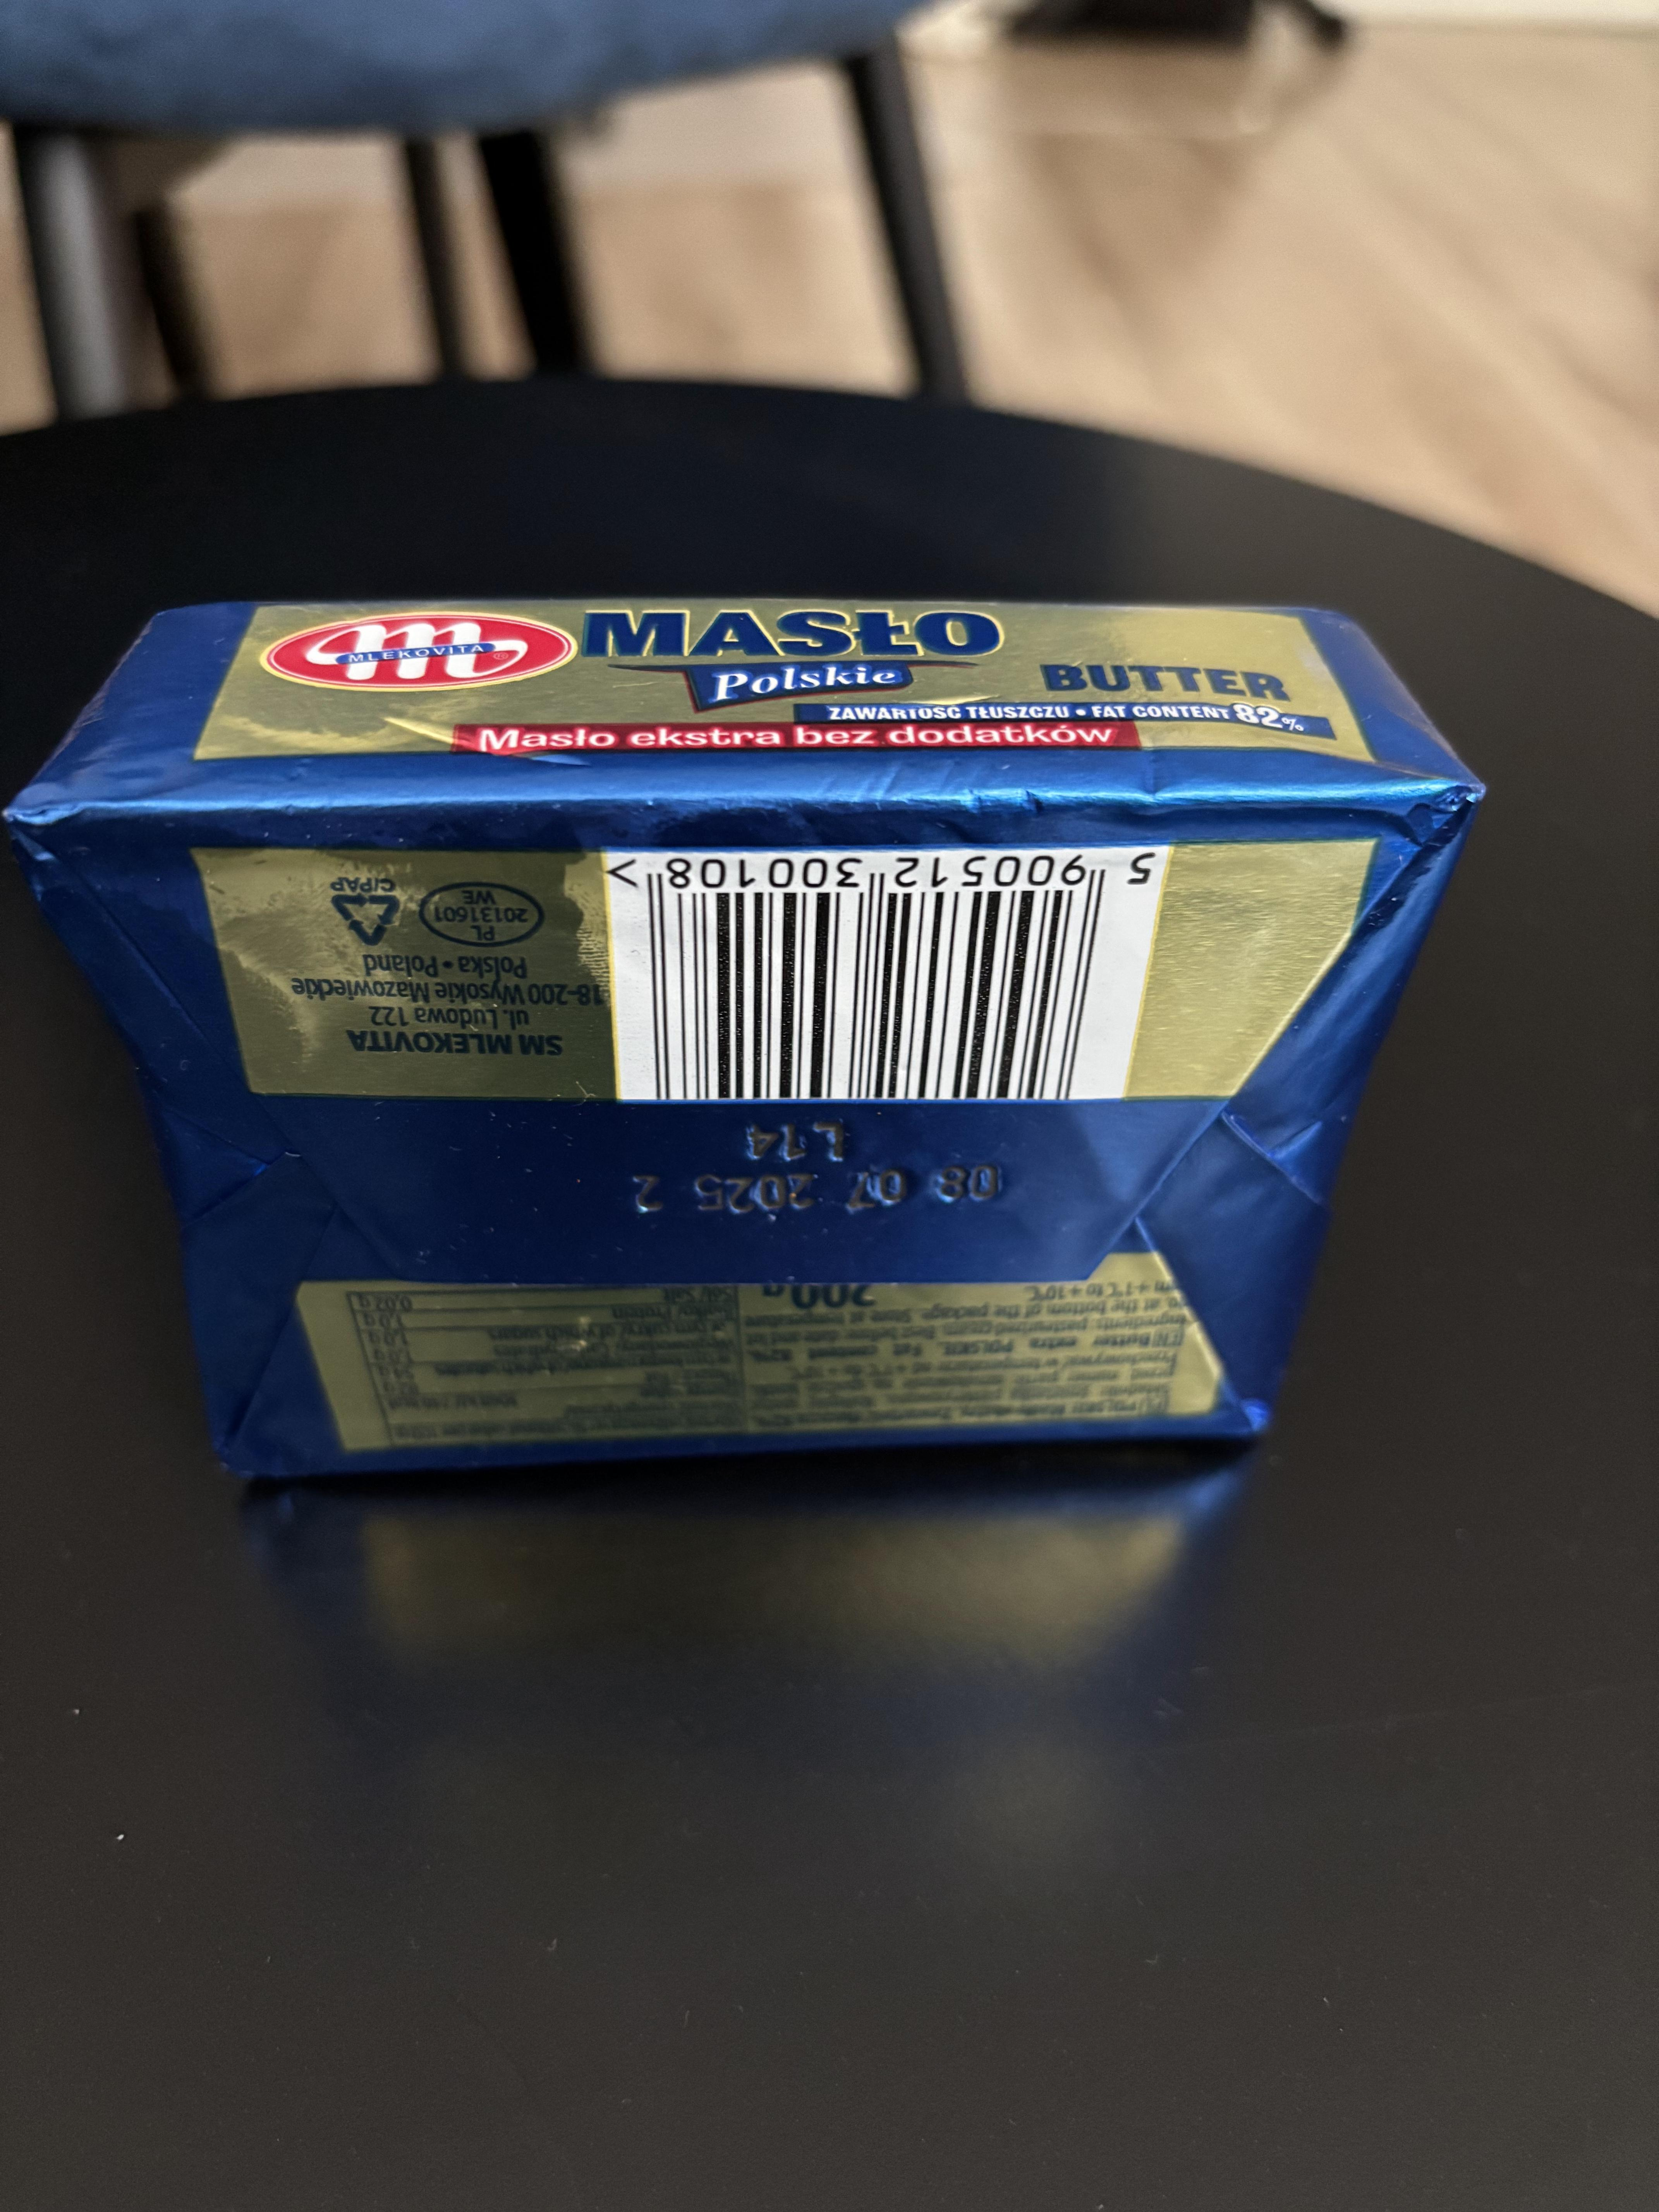Butter: (99, 592, 1396, 1524)
